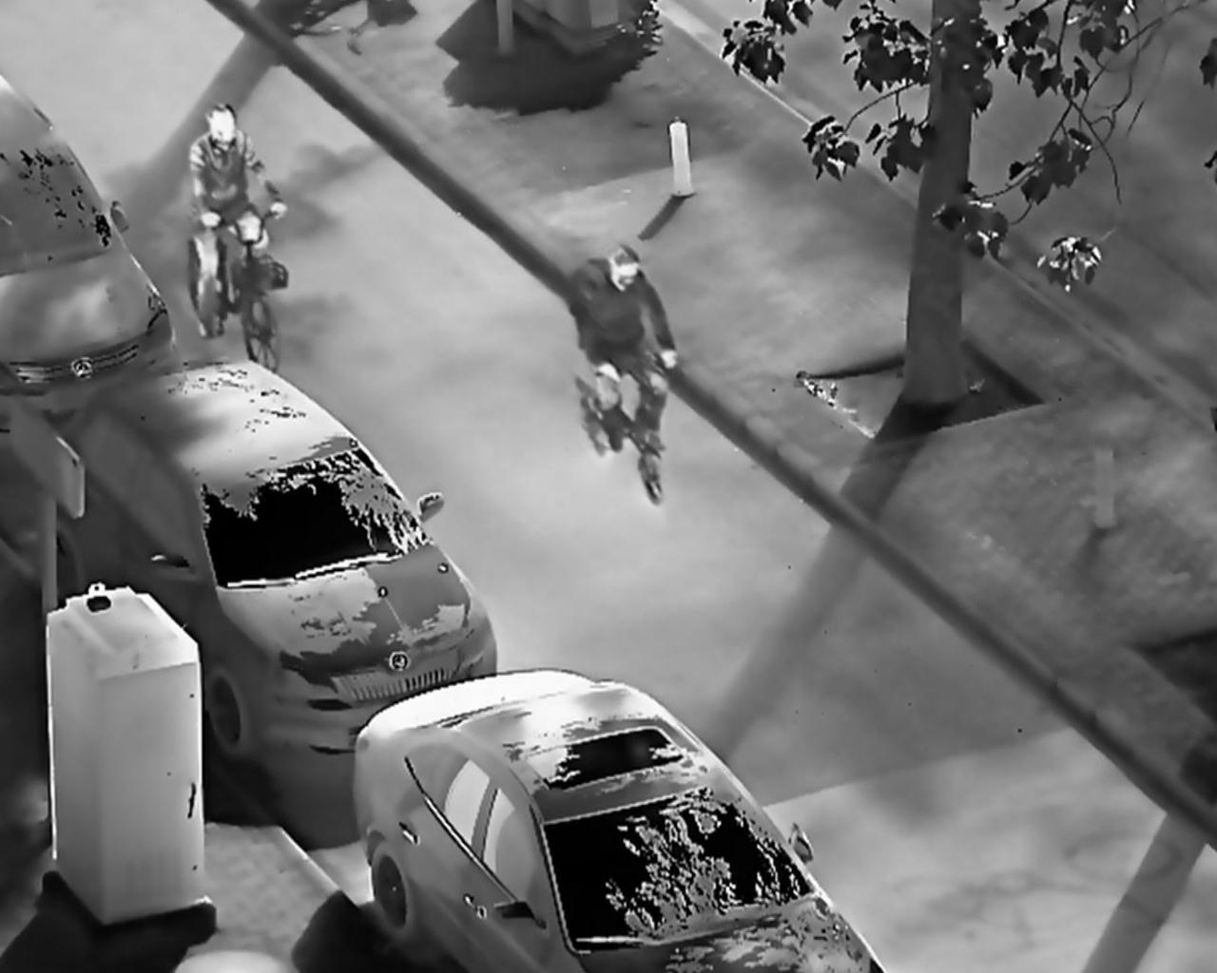person: (561, 242, 681, 512), (187, 103, 290, 341)
